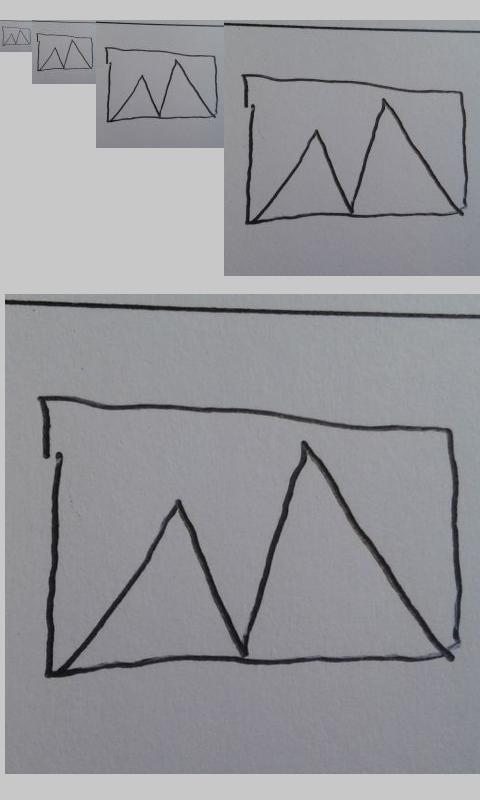image_view: (33, 391, 464, 680), (239, 68, 473, 231), (104, 46, 219, 124), (35, 32, 95, 72), (1, 26, 32, 47)
